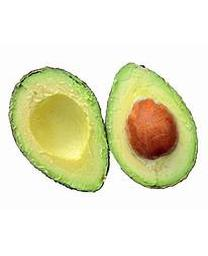avocado: (9, 66, 110, 193), (105, 62, 198, 190)
